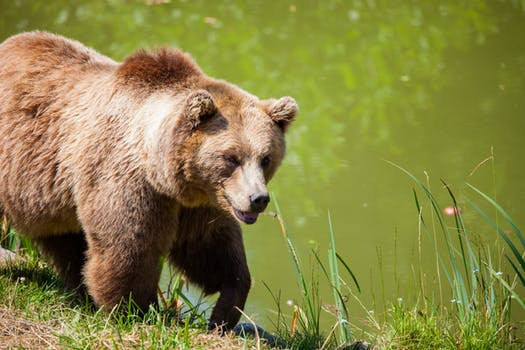bear: (178, 87, 302, 229)
